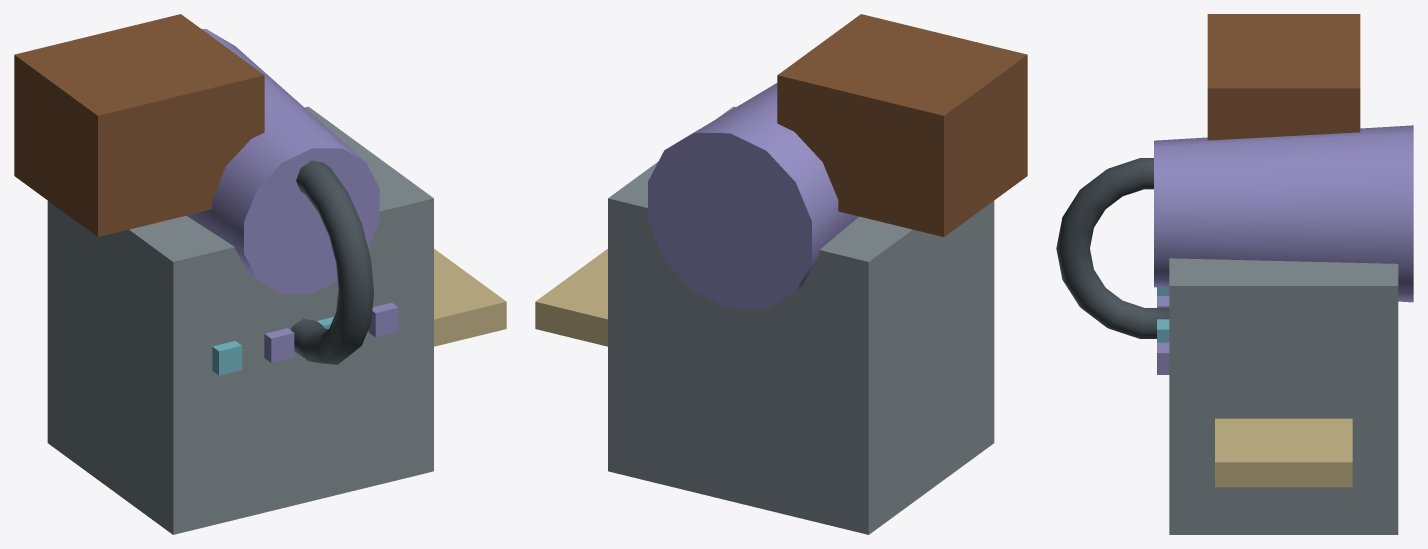
Rendered from cold_storage.glb.
3 renders of one model, left to right at view 1: azimuth 30°, elevation 25°; view 2: azimuth 150°, elevation 25°; view 3: azimuth 270°, elevation 25°, orthographic. The views are drawn at different scales.
Parts seen in each view (by area): view 1: machine_body, input_hopper, machine_core, wheel, output_tray, control_0, control_1, control_3; view 2: machine_body, input_hopper, machine_core, output_tray; view 3: machine_body, machine_core, input_hopper, output_tray, wheel, control_3.
Boxes of the visible parts, x1,y1,x2,y2 form: machine_body: (47, 106, 433, 534); input_hopper: (14, 14, 264, 236); machine_core: (187, 29, 379, 293); wheel: (291, 160, 373, 364); output_tray: (434, 249, 506, 346); control_0: (212, 341, 242, 375); control_1: (264, 328, 294, 362); control_3: (368, 302, 398, 337); machine_body: (608, 106, 994, 534); input_hopper: (777, 14, 1027, 236); machine_core: (648, 83, 858, 309); output_tray: (535, 249, 607, 346); machine_body: (1169, 258, 1398, 534); machine_core: (1154, 125, 1413, 302); input_hopper: (1207, 14, 1360, 140); output_tray: (1215, 418, 1352, 487); wheel: (1056, 158, 1169, 338); control_3: (1157, 342, 1169, 374).
Size of what is drawn, in the model's own units: 2.85 by 2.75 by 2.34.
